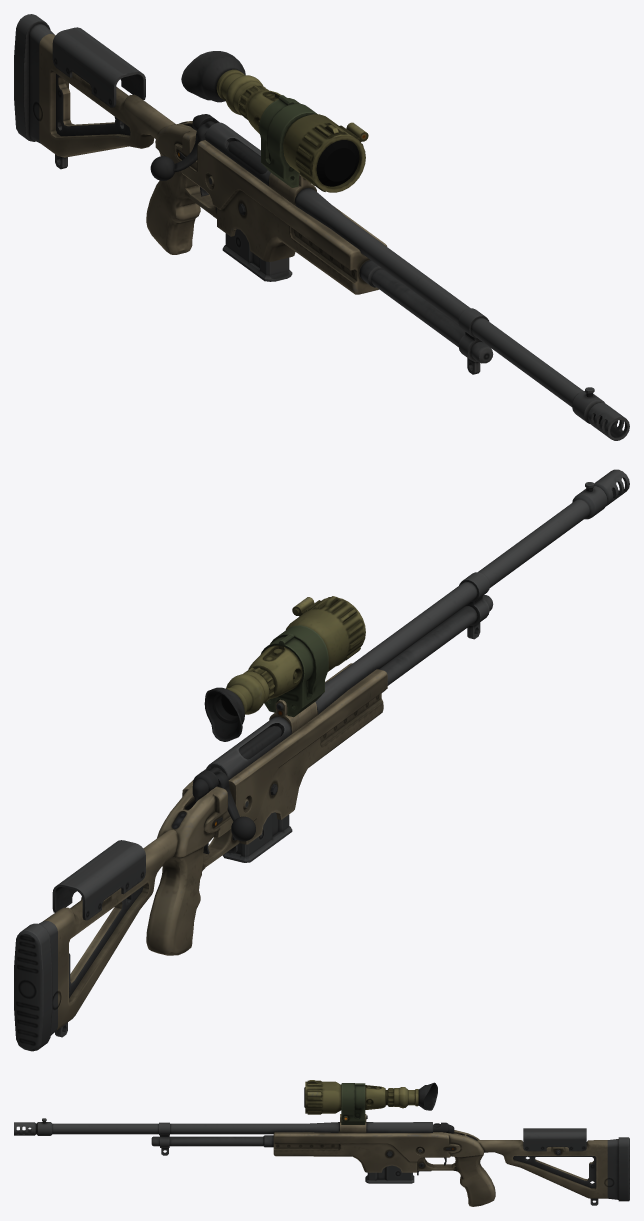
The model's file is sniper.glb.
3 views of the same model, one above another, from view 1: azimuth 30°, elevation 25°; view 2: azimuth 150°, elevation 25°; view 3: azimuth 270°, elevation 25° (orthographic). The views are drawn at different scales.
Parts seen in each view (by area): view 1: base, scope, bolt, clip; view 2: base, scope, bolt, clip; view 3: base, scope, clip.
Boxes of the visible parts, x1,y1,x2,y2 form: base: [14, 14, 629, 440]; scope: [181, 51, 368, 192]; bolt: [150, 121, 267, 180]; clip: [222, 229, 292, 281]; base: [14, 469, 629, 1051]; scope: [204, 596, 365, 741]; bolt: [209, 726, 281, 841]; clip: [222, 812, 292, 862]; base: [14, 1114, 629, 1206]; scope: [304, 1080, 437, 1124]; clip: [365, 1165, 414, 1183].
Size of the model in its own units: 12.16 by 33.58 by 151.
Materials: 1 (1 with a texture image).
